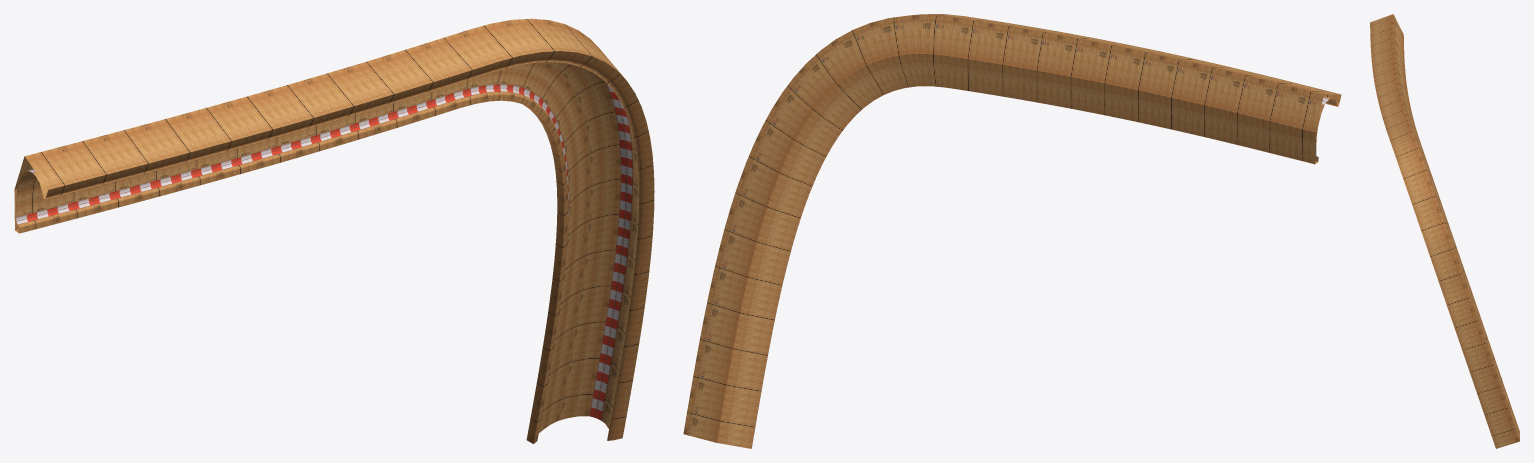
Rendered from SAMRTrack-10.fbx.
3 views of the same model, side by side, from view 1: azimuth 30°, elevation 25°; view 2: azimuth 150°, elevation 25°; view 3: azimuth 270°, elevation 25° (orthographic). The views are drawn at different scales.
Visible parts, largest first — view 1: SAMRTrack-10; view 2: SAMRTrack-10; view 3: SAMRTrack-10.
Boxes of the visible parts, left/top/right/bottom form: SAMRTrack-10: left=14, top=18, right=654, bottom=443; SAMRTrack-10: left=683, top=14, right=1341, bottom=448; SAMRTrack-10: left=1370, top=14, right=1519, bottom=448.
Size of the model in its own units: 258 by 187 by 95.63.
2 materials, 2 textured.
